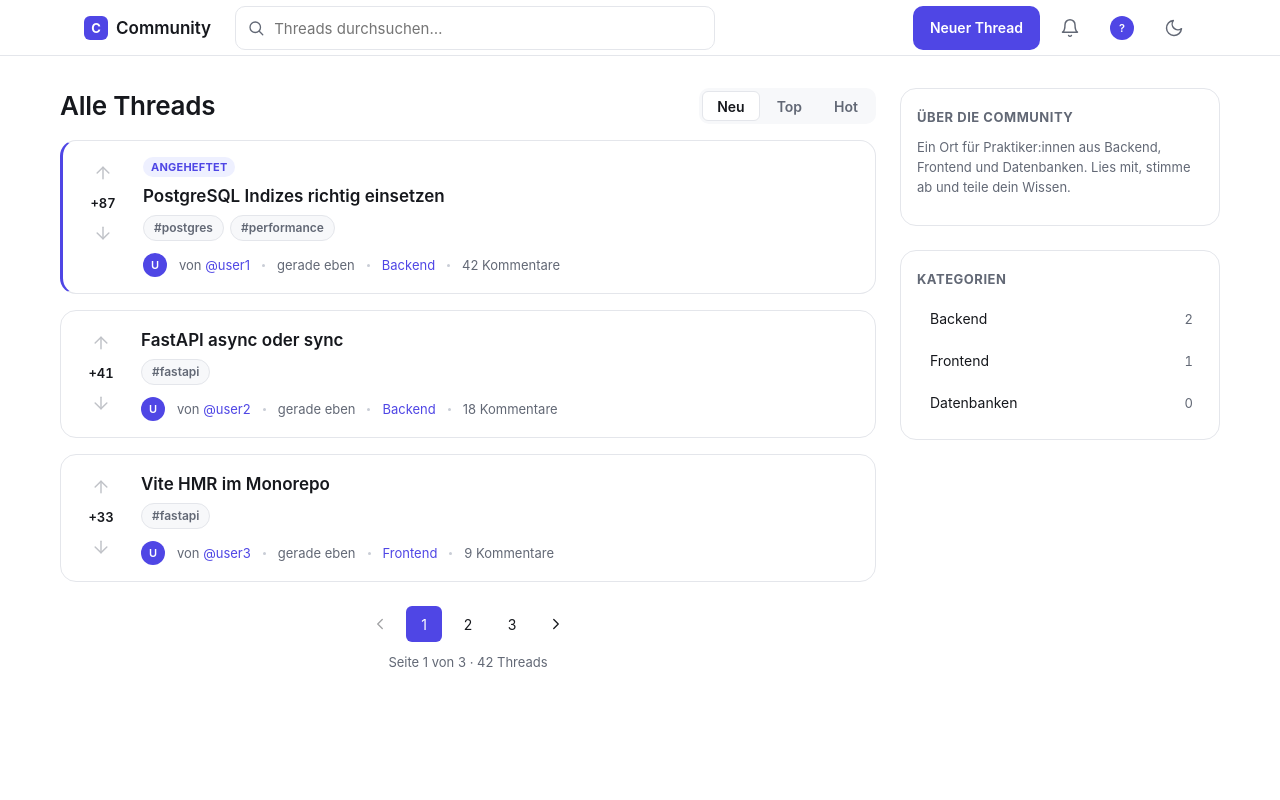
Test: forum home page › moves through the list with the page controls
Expected: the link "FastAPI async oder sync" is shown, [141, 330, 344, 350]
Click the button "2".
click(468, 624)  # box [450, 606, 486, 642]
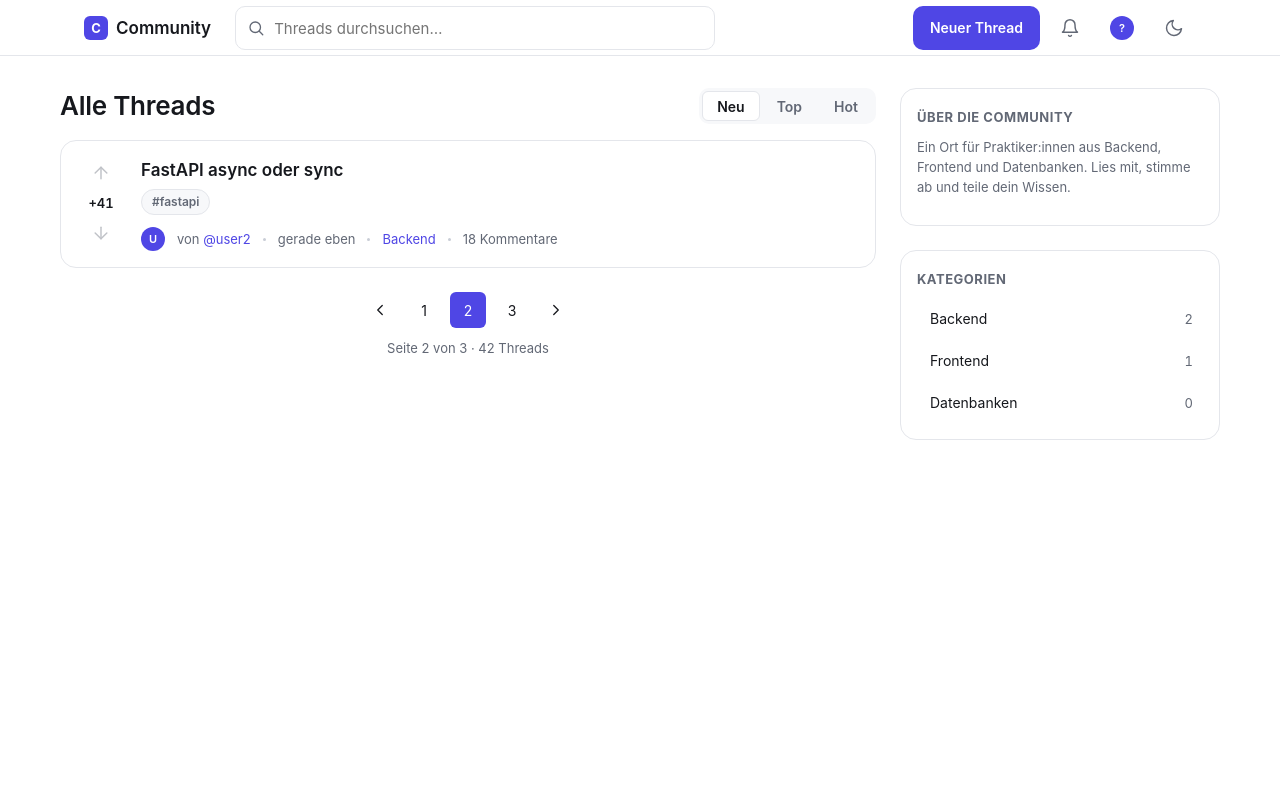
Expected: the link "FastAPI async oder sync" is shown, [141, 160, 344, 180]
Expected: the link "PostgreSQL Indizes richtig einsetzen" is gone
